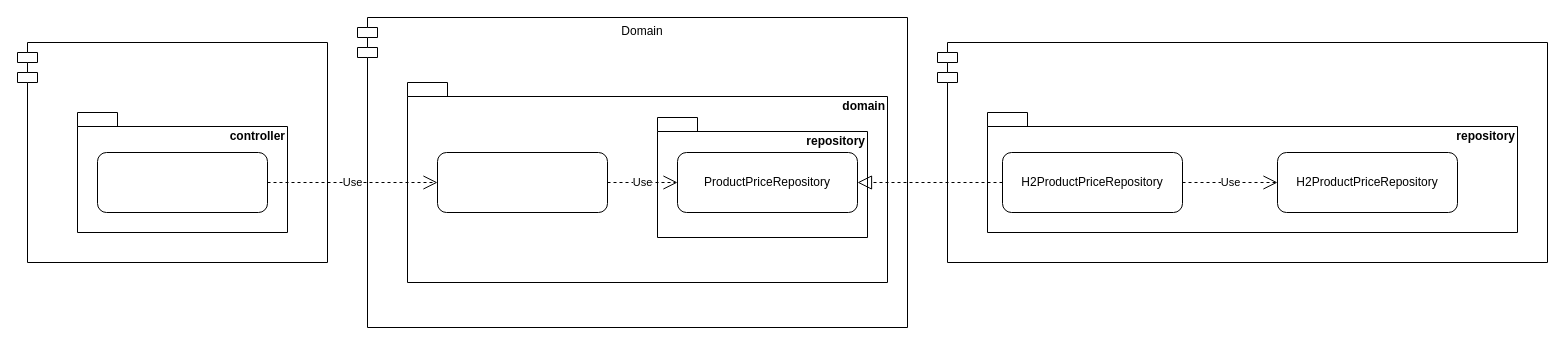
This 1565x345 diagram has some shape labels left out. Here are the shapes that lost their labels. From the top down, the box of each, then its label:
(16, 42, 328, 262): Rest
(936, 42, 1548, 262): Infrastructure
(96, 152, 268, 212): ProductPriceController
(436, 152, 608, 212): ProductPriceRetriever
